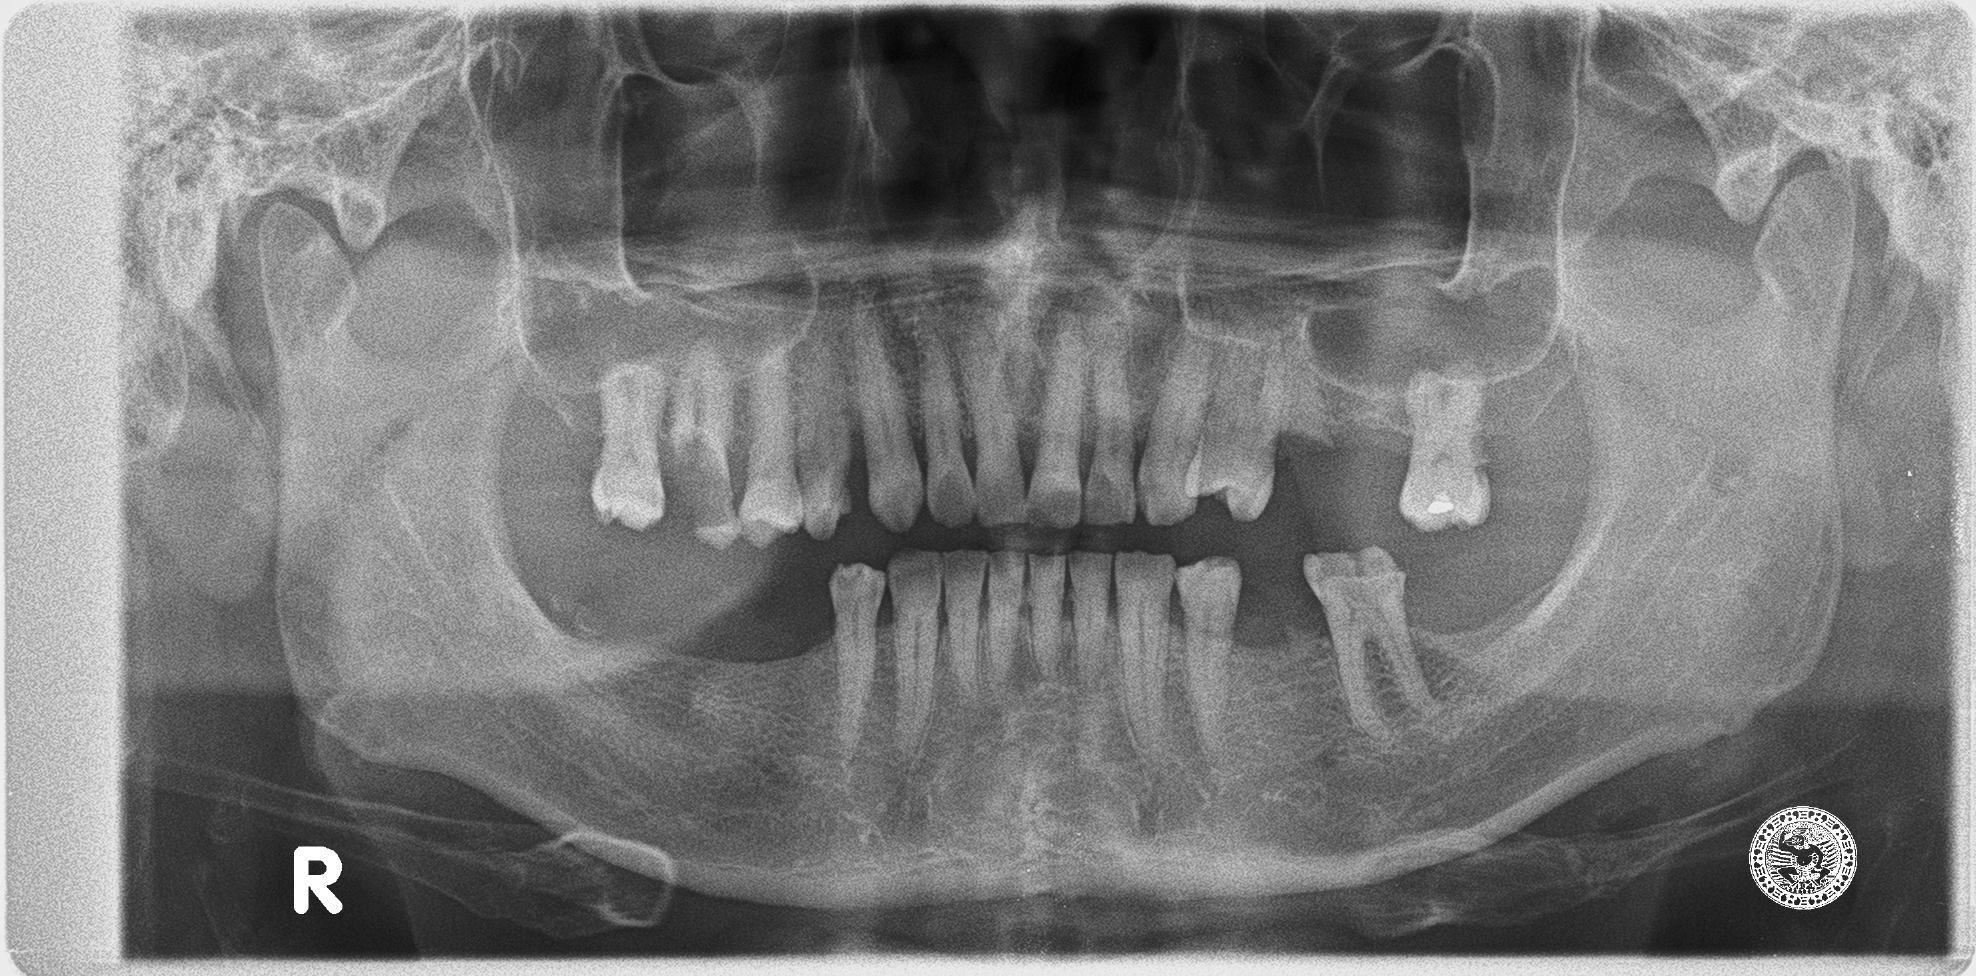Individual Tooth: (1306, 547, 1437, 744), (1185, 342, 1288, 518), (668, 342, 747, 547), (852, 311, 922, 527), (1400, 371, 1490, 530), (738, 346, 808, 543), (1140, 340, 1211, 523), (967, 311, 1026, 525), (591, 362, 665, 530), (1115, 554, 1175, 763), (1177, 557, 1240, 753), (1028, 328, 1088, 526), (1081, 318, 1135, 528), (796, 332, 849, 538), (830, 562, 885, 758), (888, 552, 940, 755), (922, 337, 977, 525), (944, 551, 989, 697), (980, 551, 1025, 690), (1069, 552, 1111, 690), (1030, 555, 1066, 680)
